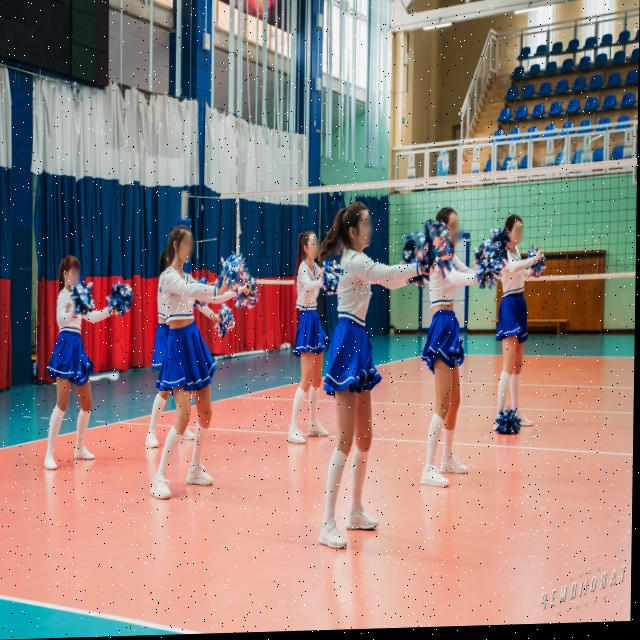Person: (319, 199, 396, 561), (147, 219, 239, 518), (412, 200, 479, 516), (48, 254, 112, 482), (282, 223, 333, 459), (492, 208, 540, 448)
